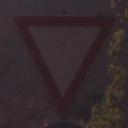preferencia: (12, 11, 120, 120)
